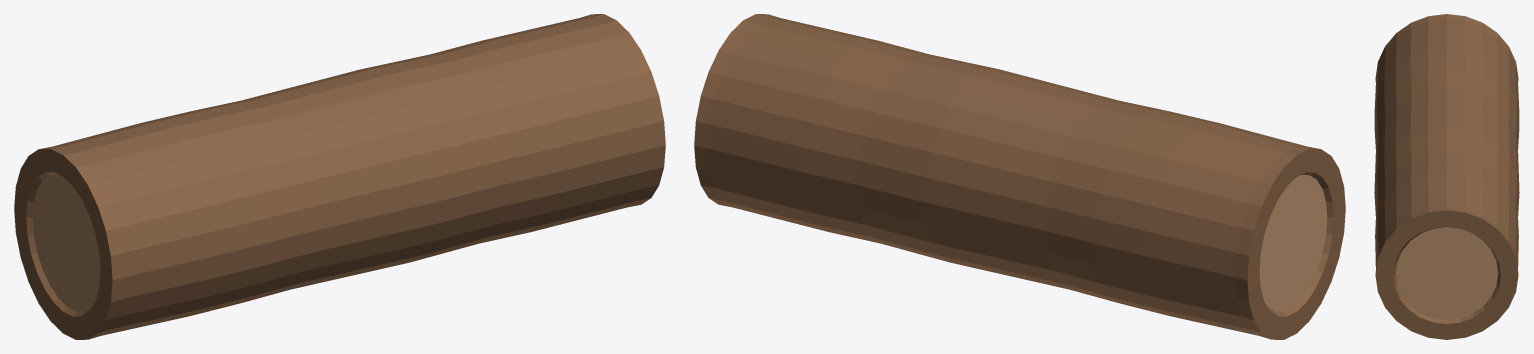
The model's file is env-wood-single.fbx.
The picture shows the model from 3 angles, left to right: view 1: azimuth 30°, elevation 25°; view 2: azimuth 150°, elevation 25°; view 3: azimuth 270°, elevation 25°; orthographic projection. The views are drawn at different scales.
Parts seen in each view (by area): view 1: Cylinder.259; view 2: Cylinder.259; view 3: Cylinder.259.
Part boxes in pixels (x1=…): Cylinder.259: x1=14, y1=14, x2=665, y2=339; Cylinder.259: x1=694, y1=14, x2=1345, y2=339; Cylinder.259: x1=1374, y1=14, x2=1519, y2=339.
Bounding box in the file's own units: 87.13 × 27.21 × 27.21.
